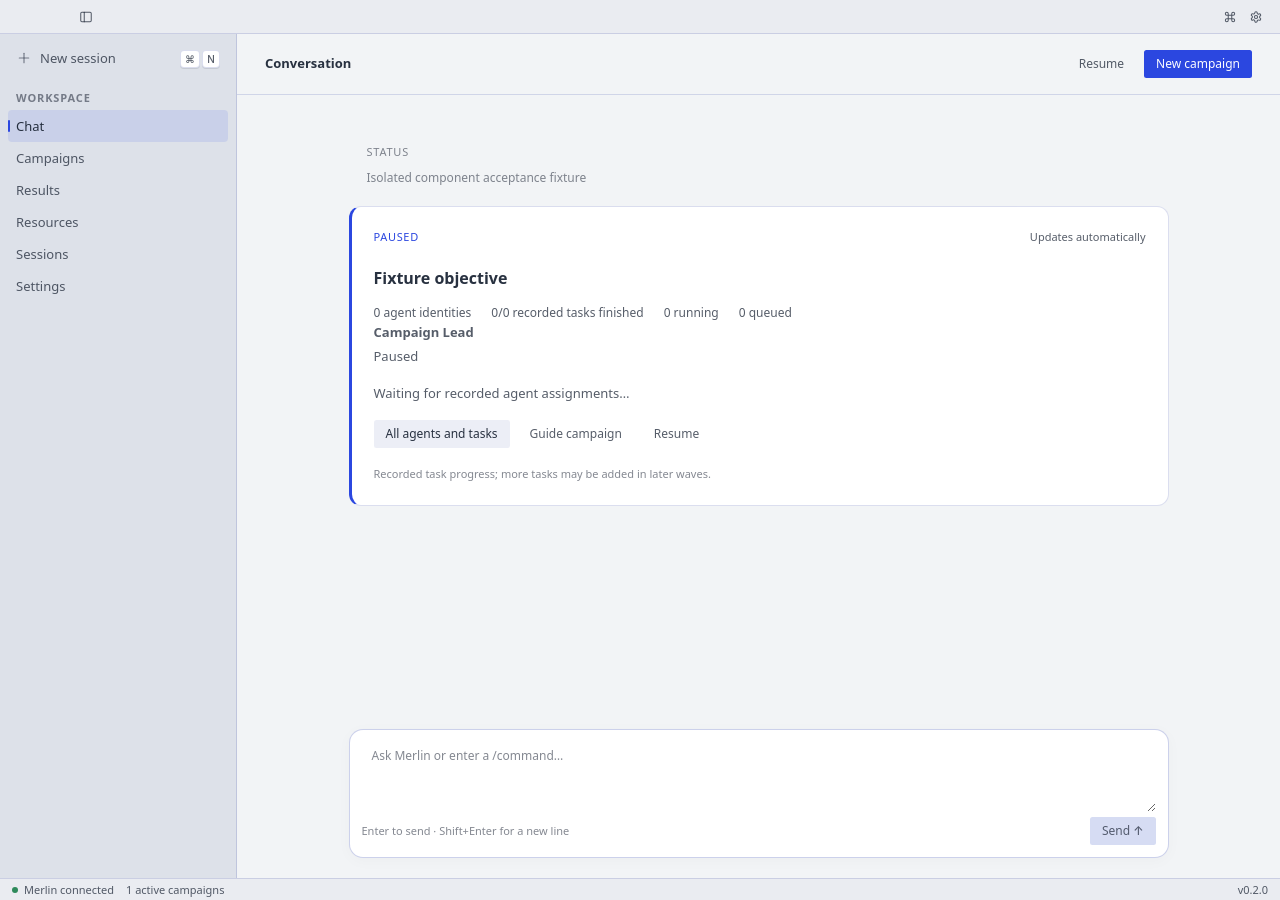
Scenario: a hanging agents request does not block chat sending
The image size is (1280, 900).
(page scrolled)
Expected: the text "Merlin connected" is shown, [24,882,114,898]
Step 1. Type "hello" into the text box named "Message Merlin" → (758, 776), box [362,742,1156,812]
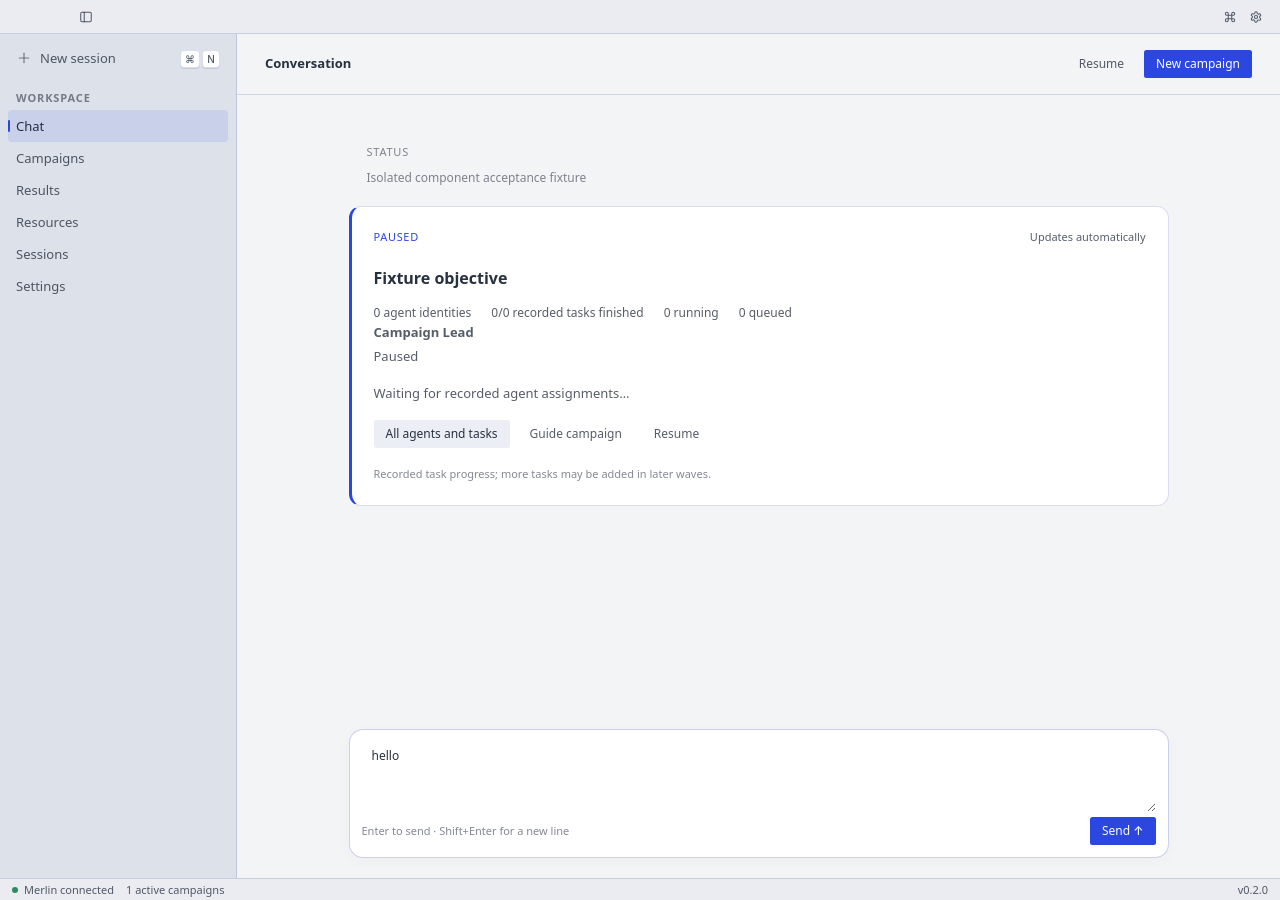
Step 2. Press Enter in the text box named "Message Merlin", box [362,742,1156,812]
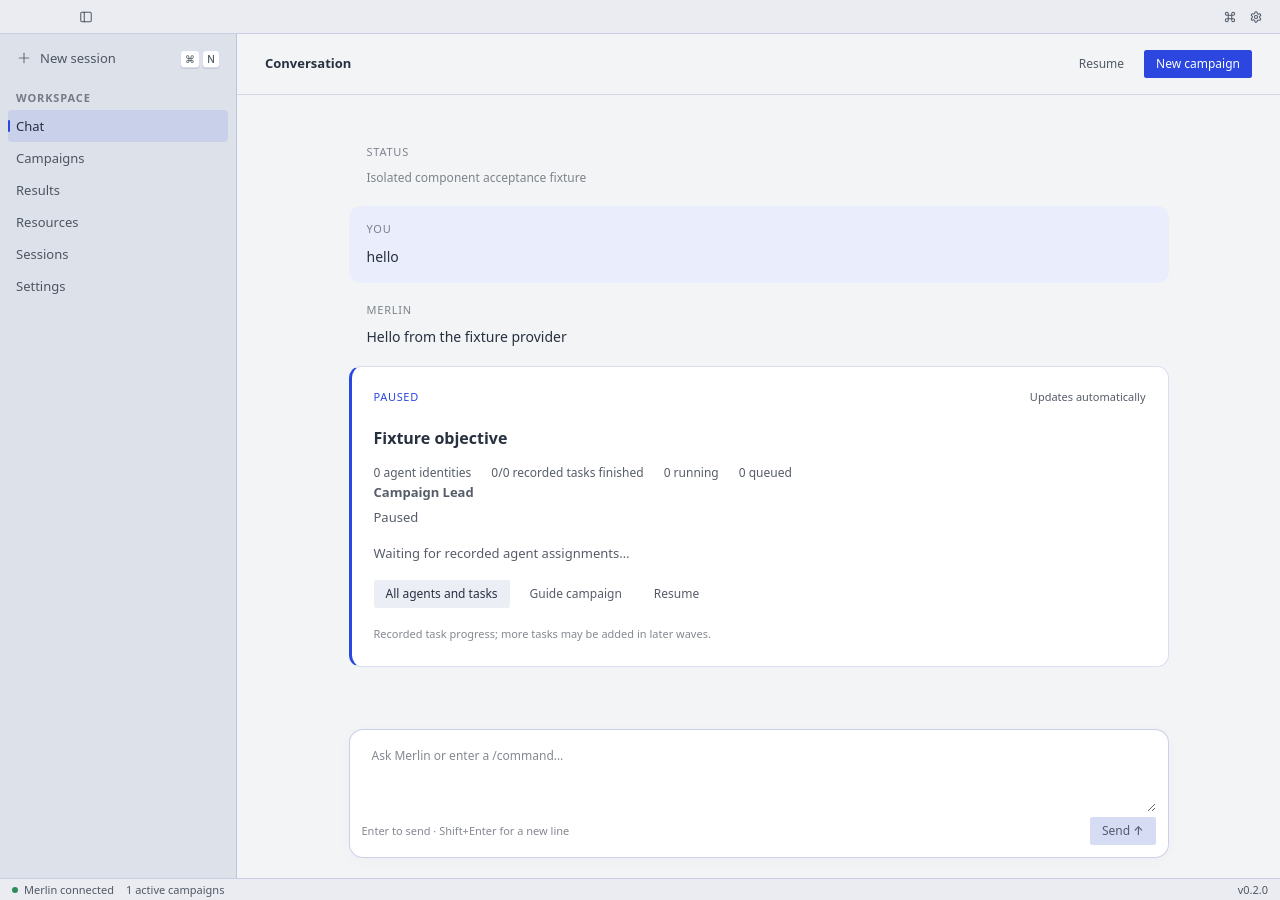
Expected: the text box named "Message Merlin" is empty, [362,742,1156,812]
Expected: the text "Hello from the fixture provider" is shown, [366,327,567,346]
